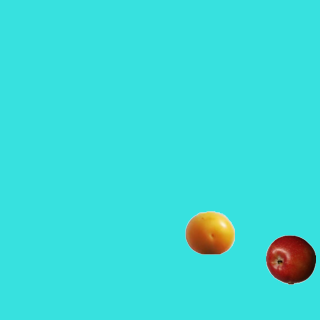Apple Braeburn: (265, 234, 315, 284)
Cherry Wax Yellow: (184, 207, 234, 257)
